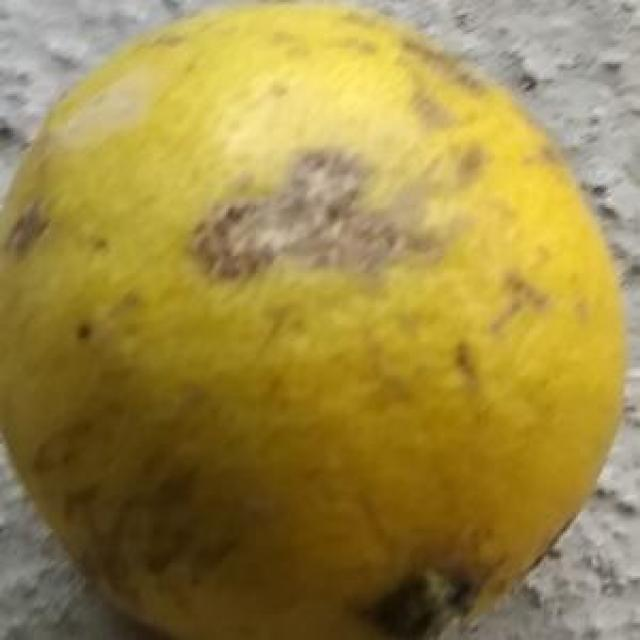lemon: (2, 0, 629, 640)
